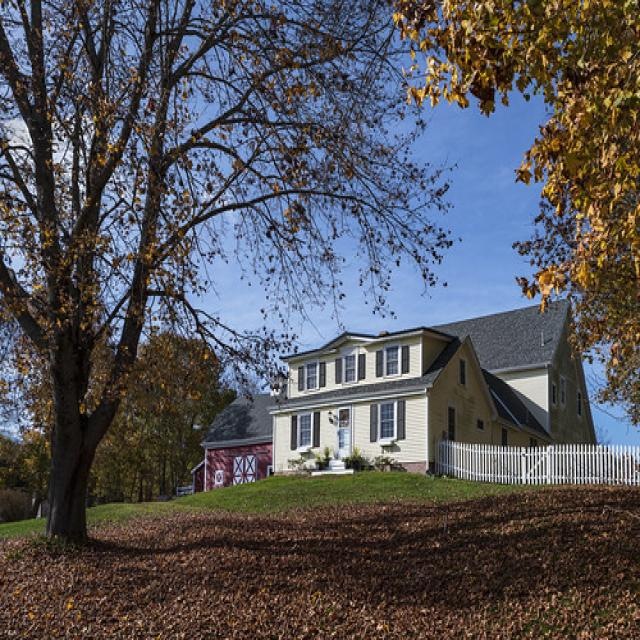building: (188, 286, 597, 489)
